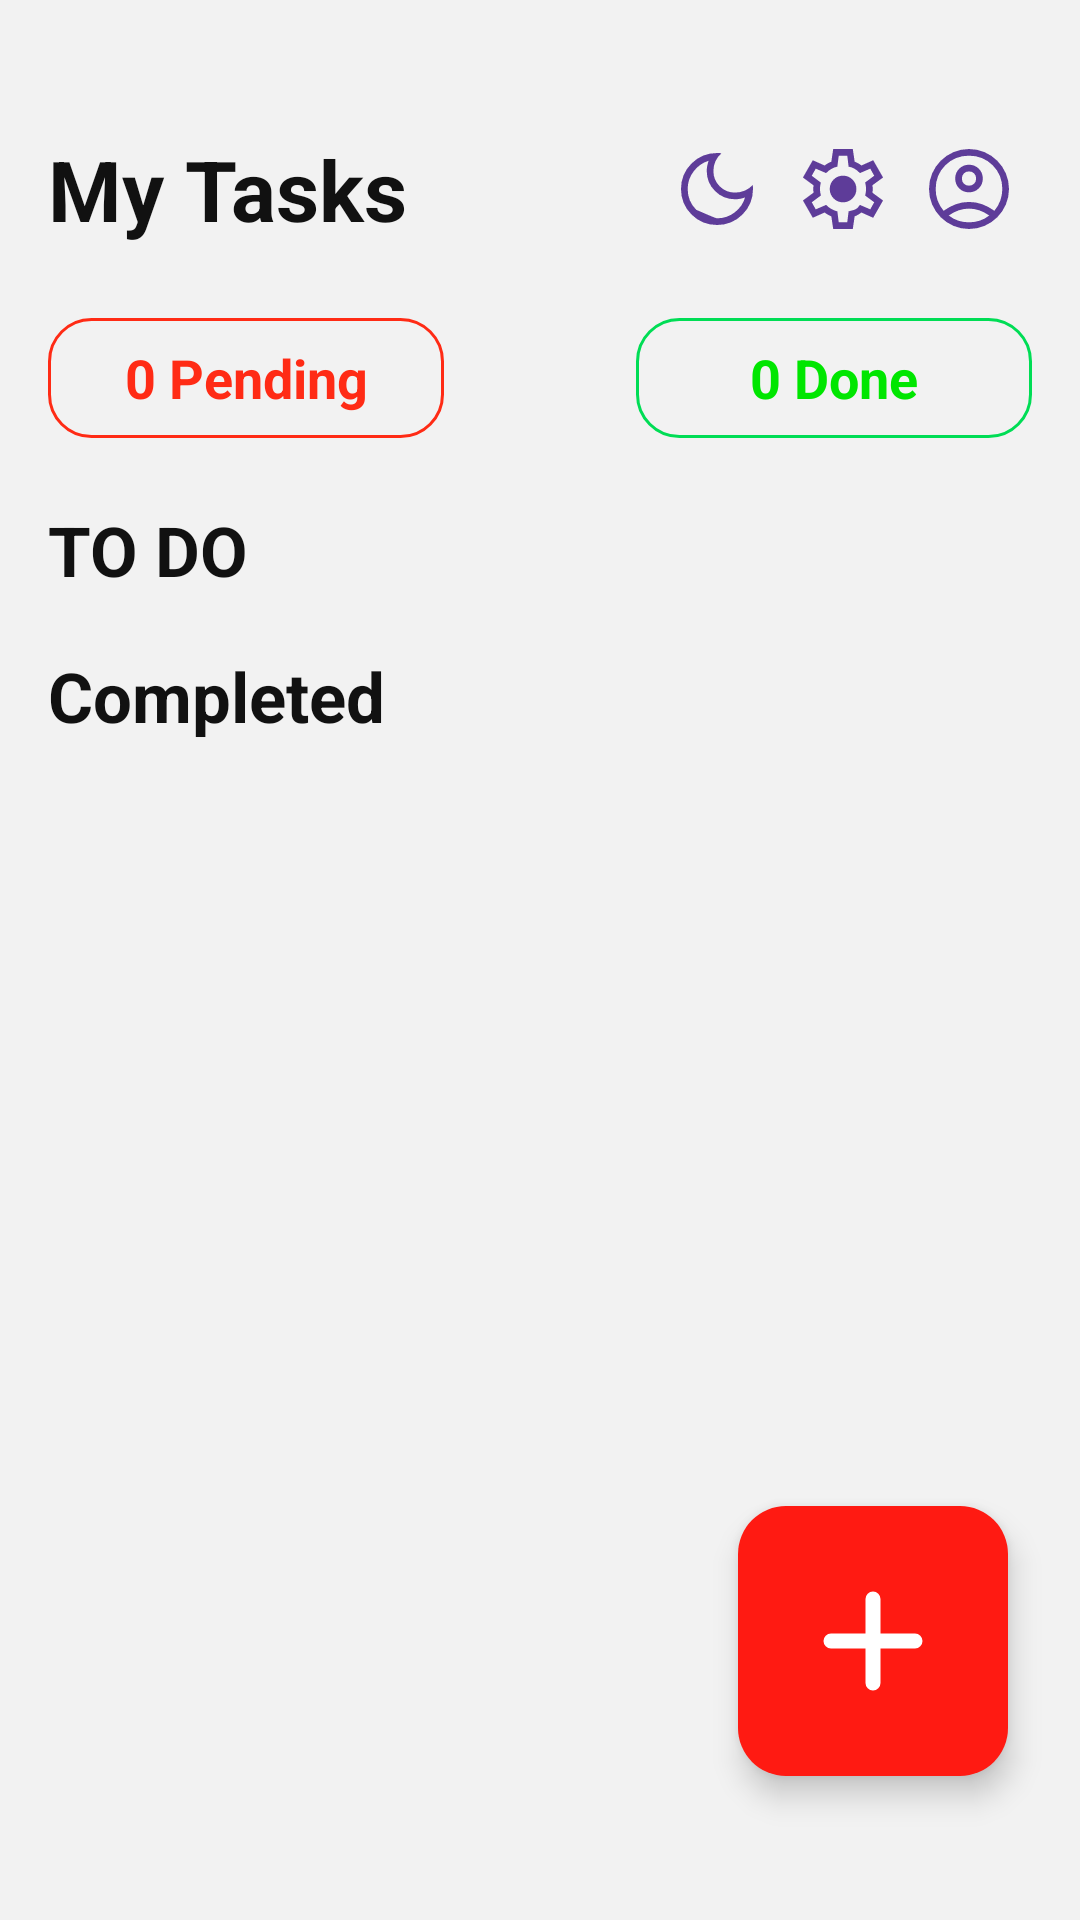

Icons on this 1080px x 1920px Android screen, each with the point to tap as (x,y):
Add Task: (873,1641)
Profile: (969,189)
Settings: (843,189)
Theme: (717,189)
